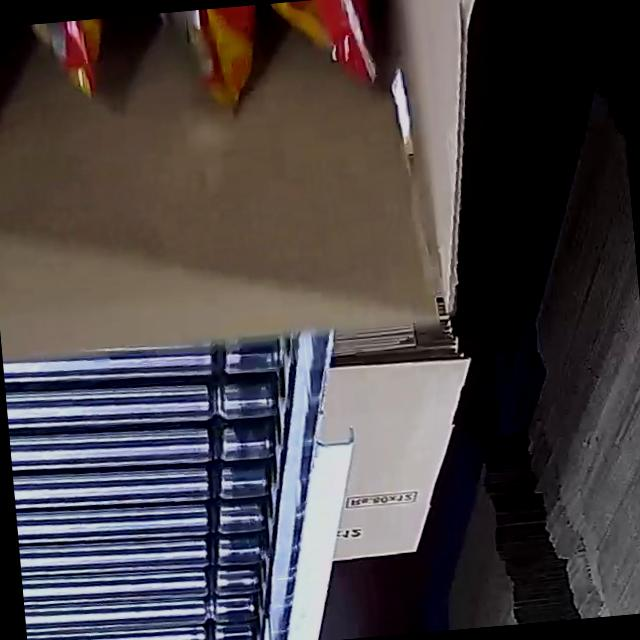masala: (0, 0, 409, 156)
